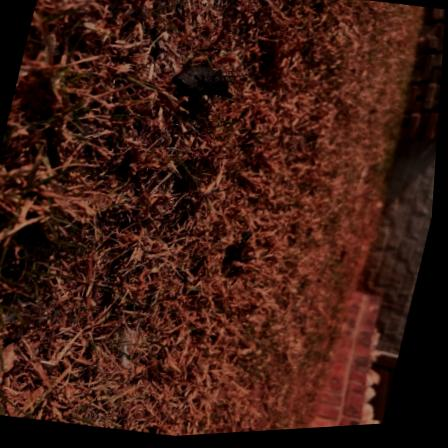dog-poop: (168, 48, 244, 114), (227, 220, 269, 275)
